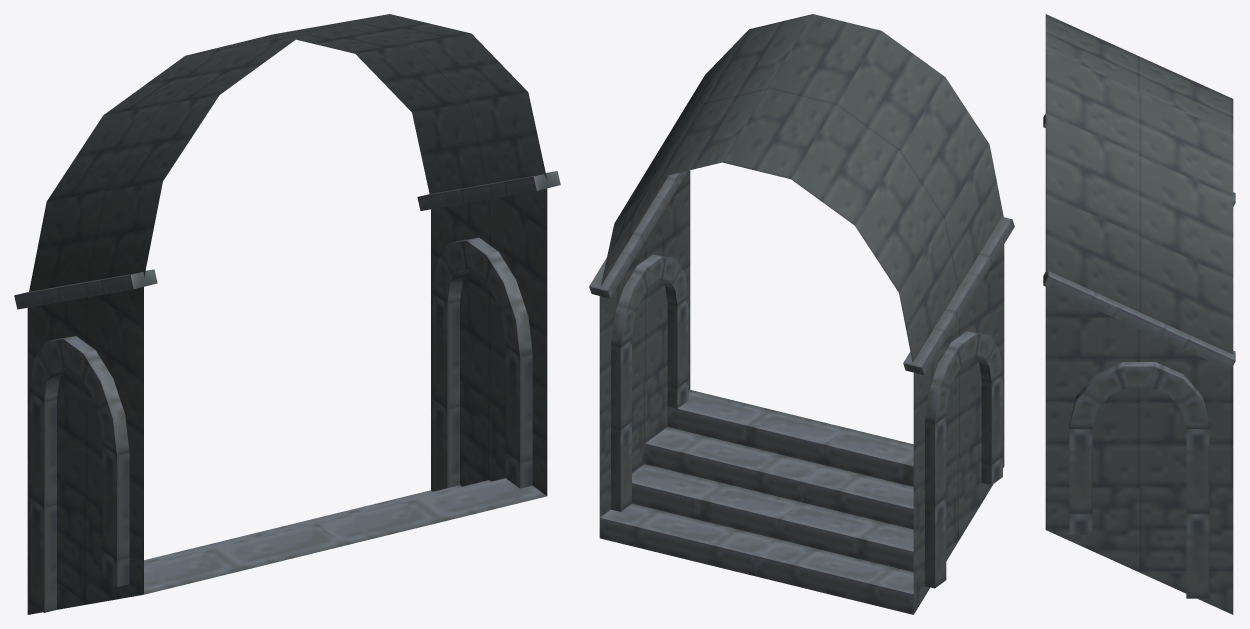
The model's file is arch_inside_large_stairs_down.fbx.
3 renders of one model, left to right at view 1: azimuth 30°, elevation 25°; view 2: azimuth 150°, elevation 25°; view 3: azimuth 270°, elevation 25°, orthographic. The views are drawn at different scales.
Parts seen in each view (by area): view 1: arch_inside_large_stairs_down; view 2: arch_inside_large_stairs_down; view 3: arch_inside_large_stairs_down.
Boxes of the visible parts, <box> form: arch_inside_large_stairs_down: <box>14,14,560,614</box>; arch_inside_large_stairs_down: <box>589,14,1014,614</box>; arch_inside_large_stairs_down: <box>1043,14,1235,614</box>.
Bounding box in the file's own units: 68 × 95 × 32.89.
